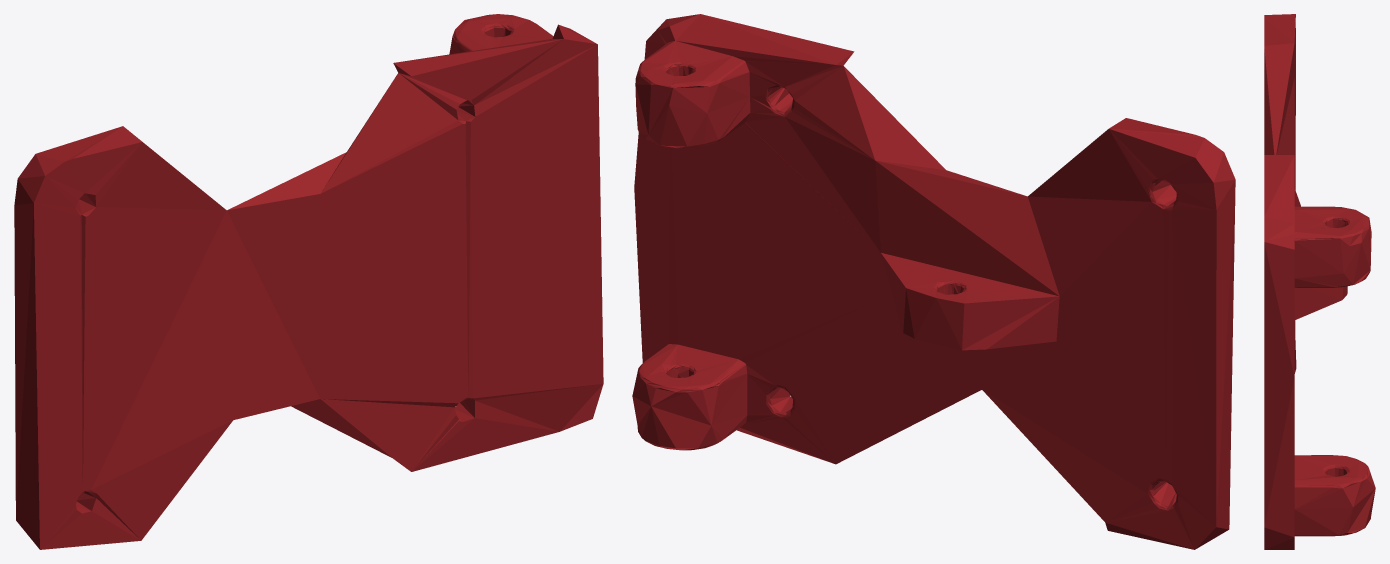
File: lidar_bracket.obj
3 views of the same model, side by side, from view 1: azimuth 30°, elevation 25°; view 2: azimuth 150°, elevation 25°; view 3: azimuth 270°, elevation 25° (orthographic). The views are drawn at different scales.
Bounding box in the file's own units: 0.073 × 0.0485 × 0.0147.
